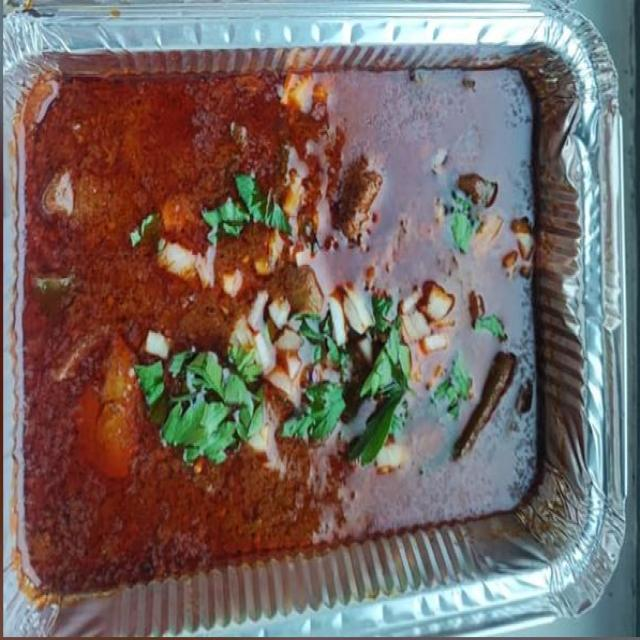kamouniya: (17, 55, 570, 544)
